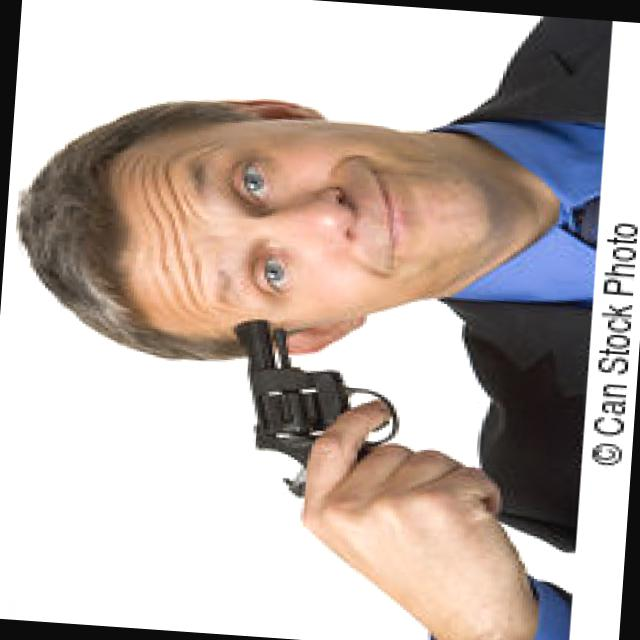handgun: (215, 316, 402, 510)
